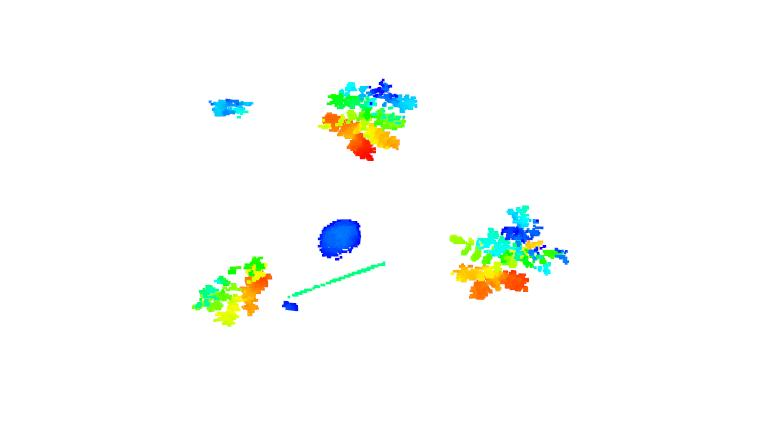chickpea: (452, 202, 569, 304), (317, 74, 418, 159), (189, 253, 272, 329)
